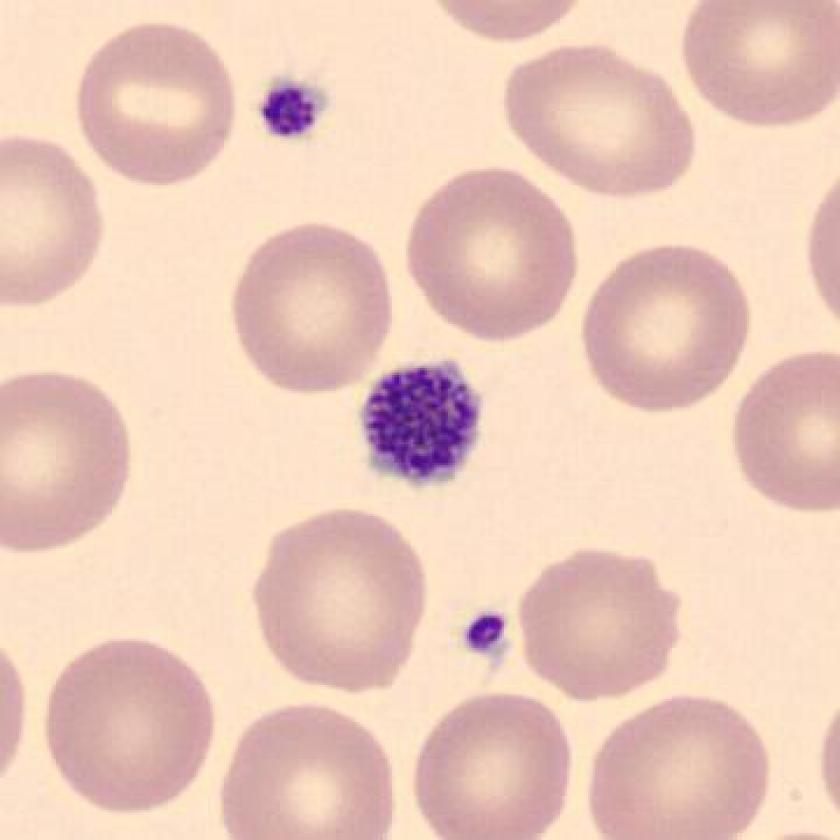platelets: (361, 358, 487, 499), (251, 78, 328, 145), (456, 603, 514, 665)
